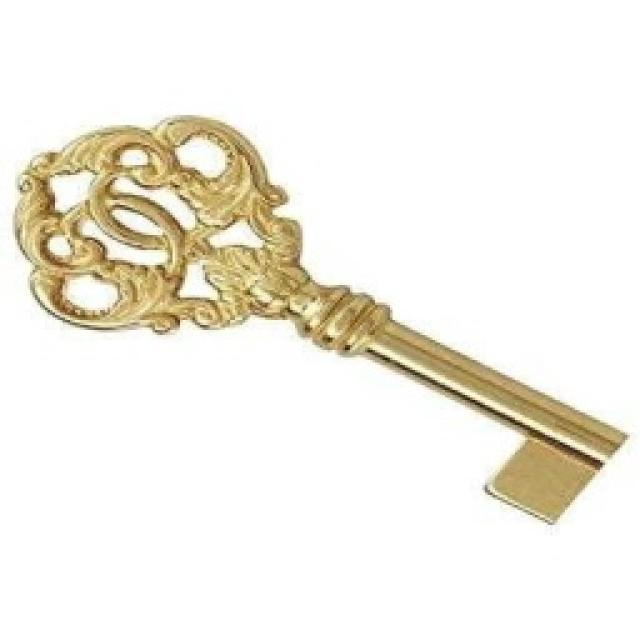anahtar: (9, 109, 634, 546)
